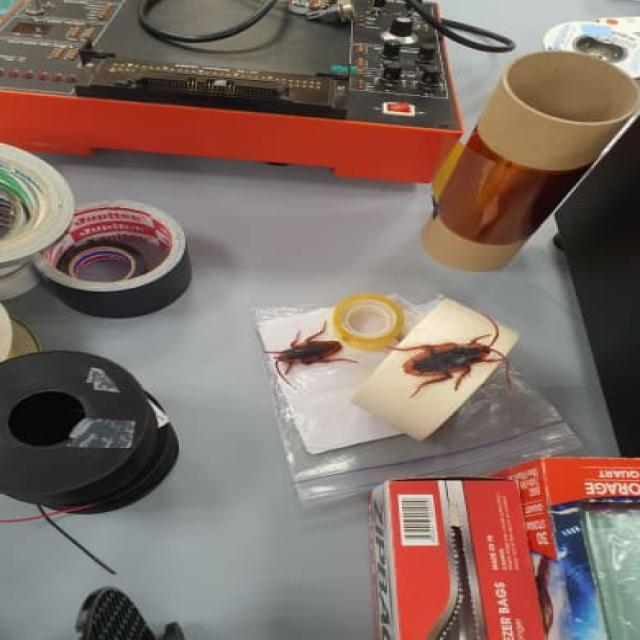Cockroach: (389, 322, 518, 399), (258, 318, 366, 380)
